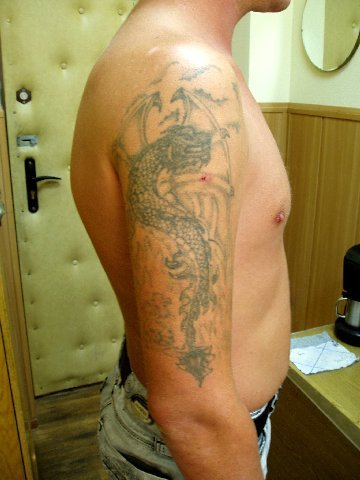tatu6_drakon: (97, 24, 252, 395)
